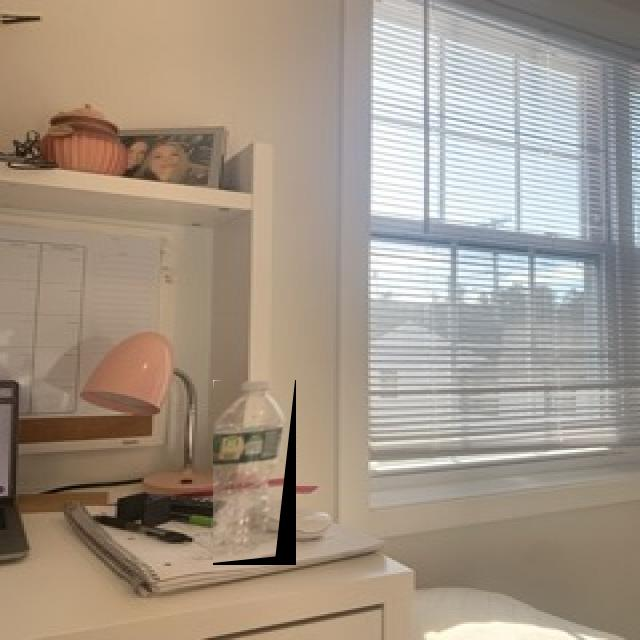water_bottle: (213, 380, 296, 565)
